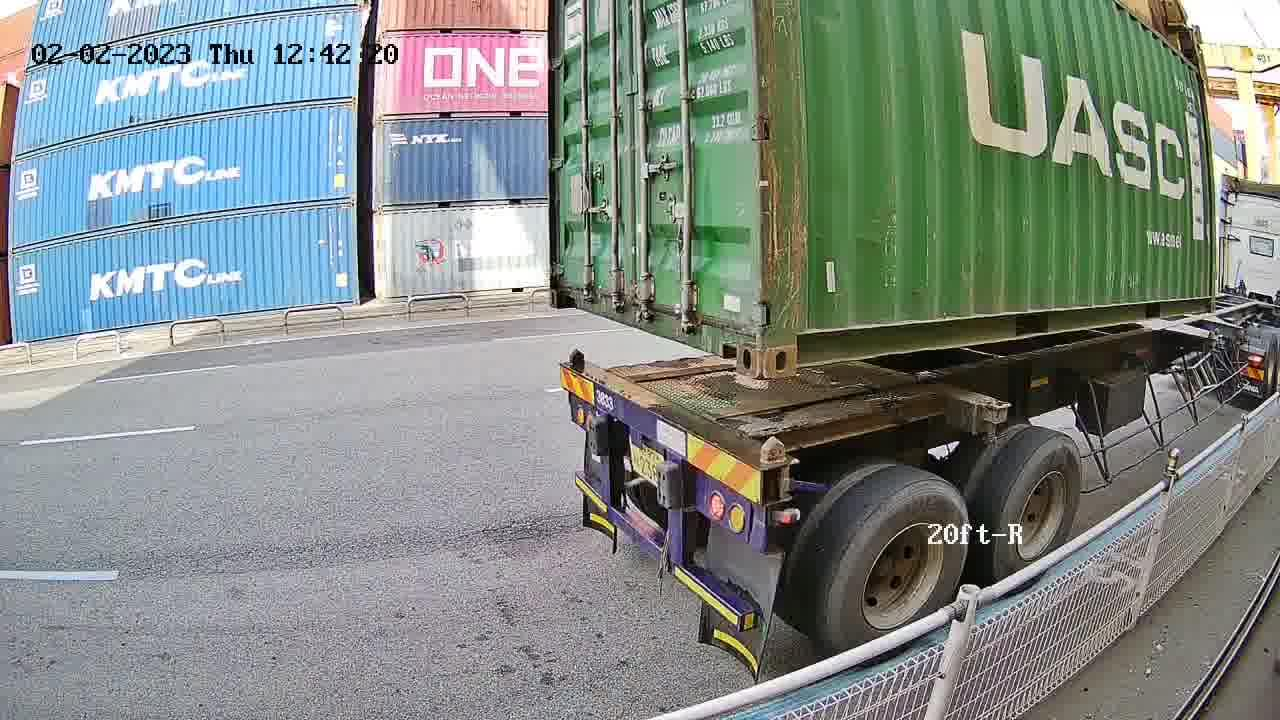Chassis: (561, 359, 795, 511)
Cone: (755, 432, 790, 502), (564, 347, 587, 364)
Hole_L: (760, 298, 831, 380), (550, 267, 585, 308)
Hole_R: (710, 298, 762, 379)
Tire: (833, 484, 968, 667), (997, 436, 1083, 590)
